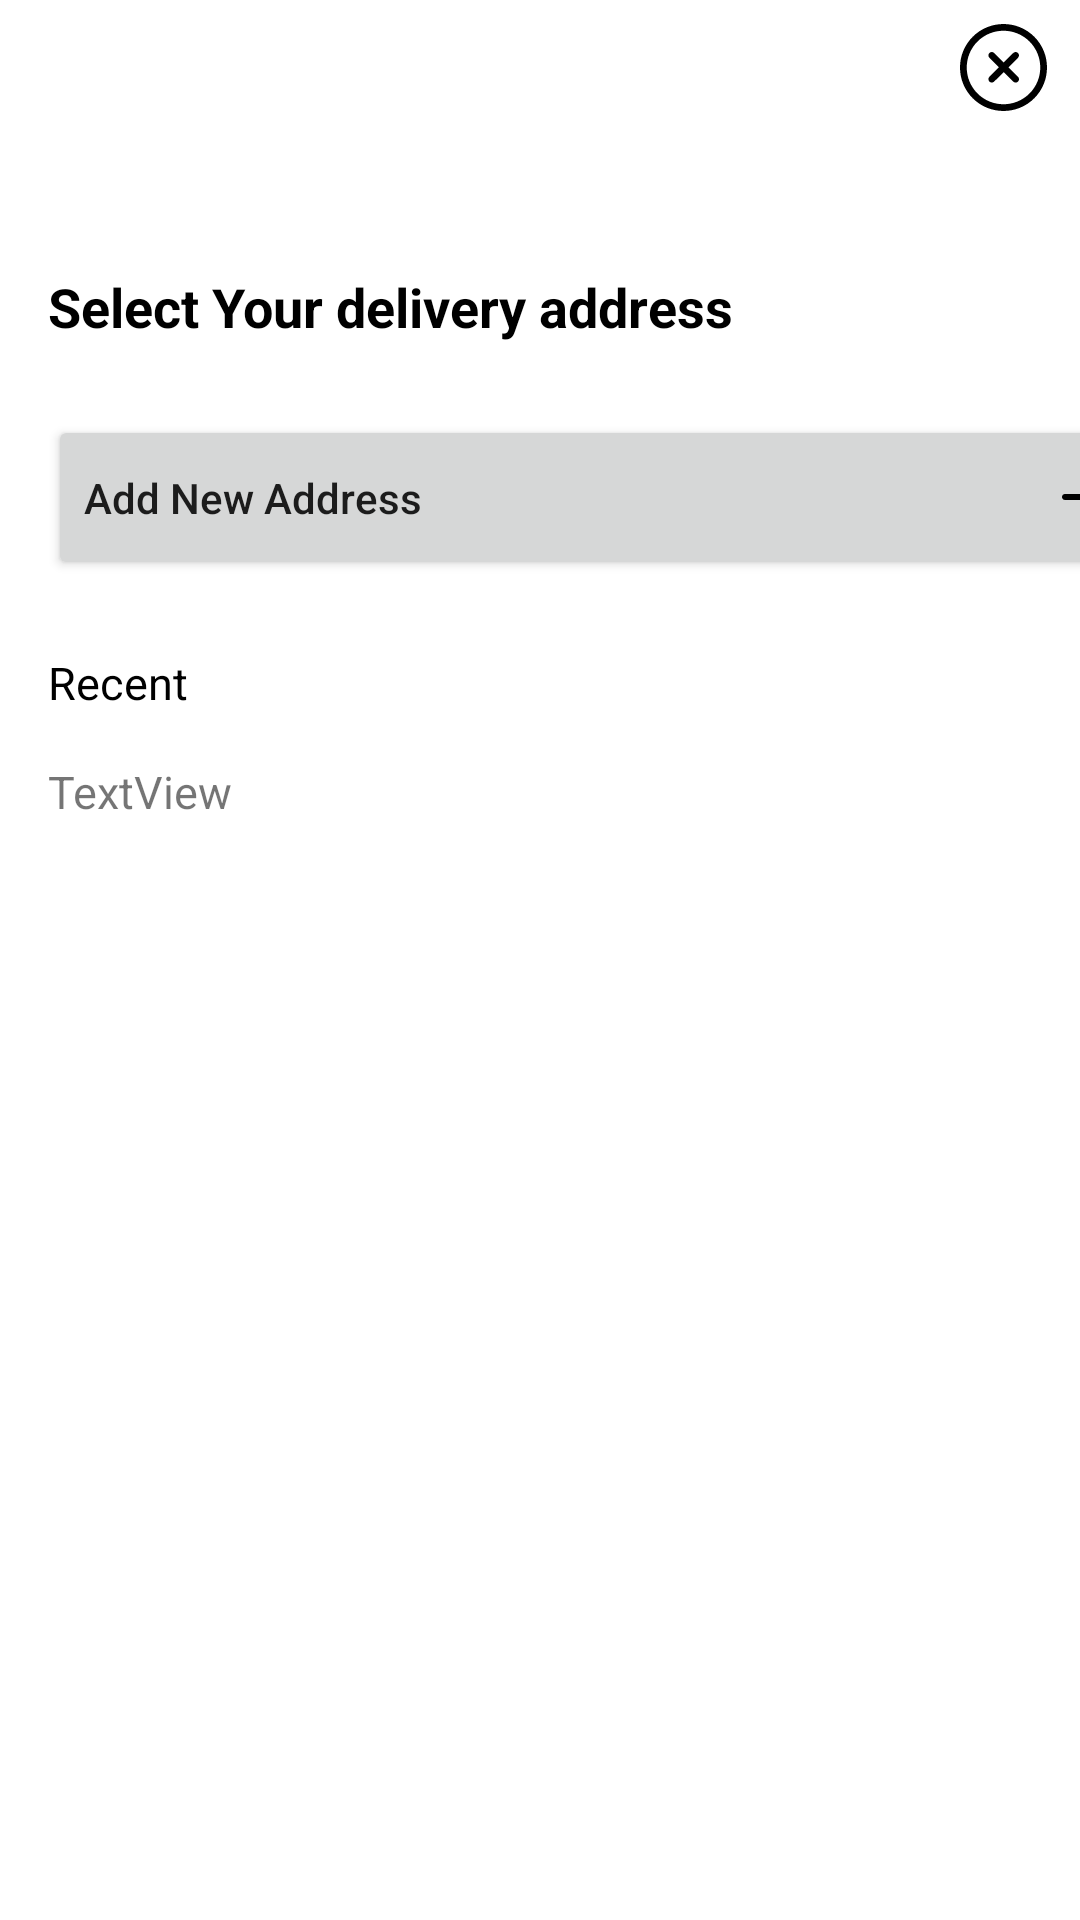

Icons on this 1080w x 1920h Android screen, each with the point to tap as (x=x, y=y):
cancel: (x=1003, y=67)
